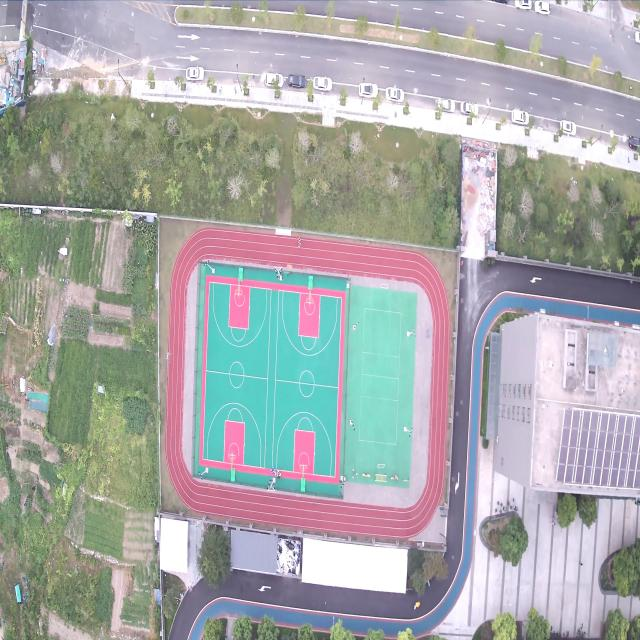UAV: (164, 350, 172, 362)
